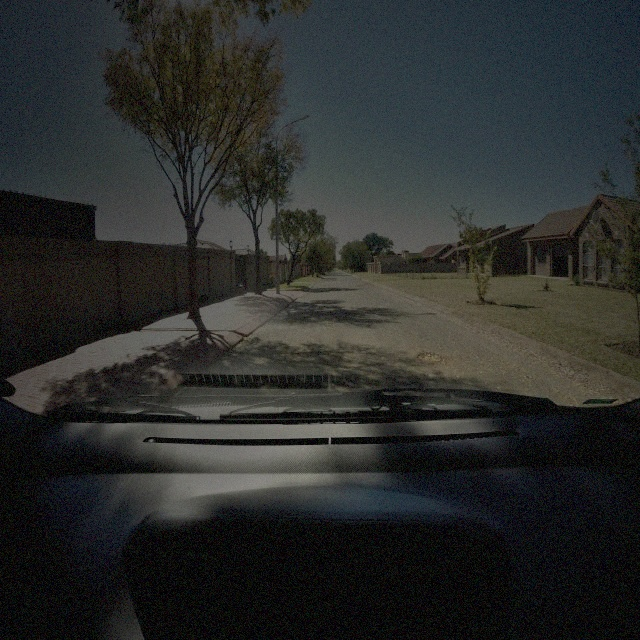pothole: (417, 352, 444, 366)
